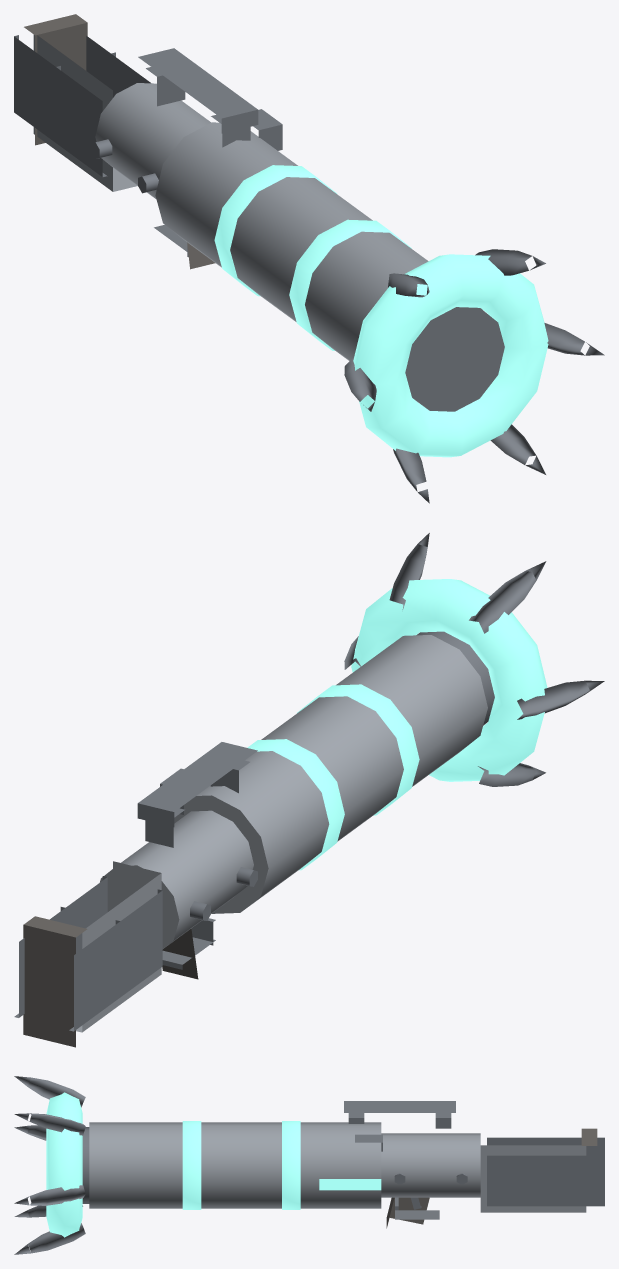
The model's file is SM_Weapon_SingularityCannon.glb.
3 renders of one model, top to bottom at view 1: azimuth 30°, elevation 25°; view 2: azimuth 150°, elevation 25°; view 3: azimuth 270°, elevation 25°, orthographic. The views are drawn at different scales.
Parts seen in each view (by area): view 1: SM_Weapon_SingularityCannon; view 2: SM_Weapon_SingularityCannon; view 3: SM_Weapon_SingularityCannon.
Boxes of the visible parts, x1,y1,x2,y2 form: SM_Weapon_SingularityCannon: [14, 14, 604, 503]; SM_Weapon_SingularityCannon: [14, 533, 604, 1047]; SM_Weapon_SingularityCannon: [14, 1076, 604, 1254].
Bounding box in the file's own units: 0.289 × 0.2503 × 0.9514.
